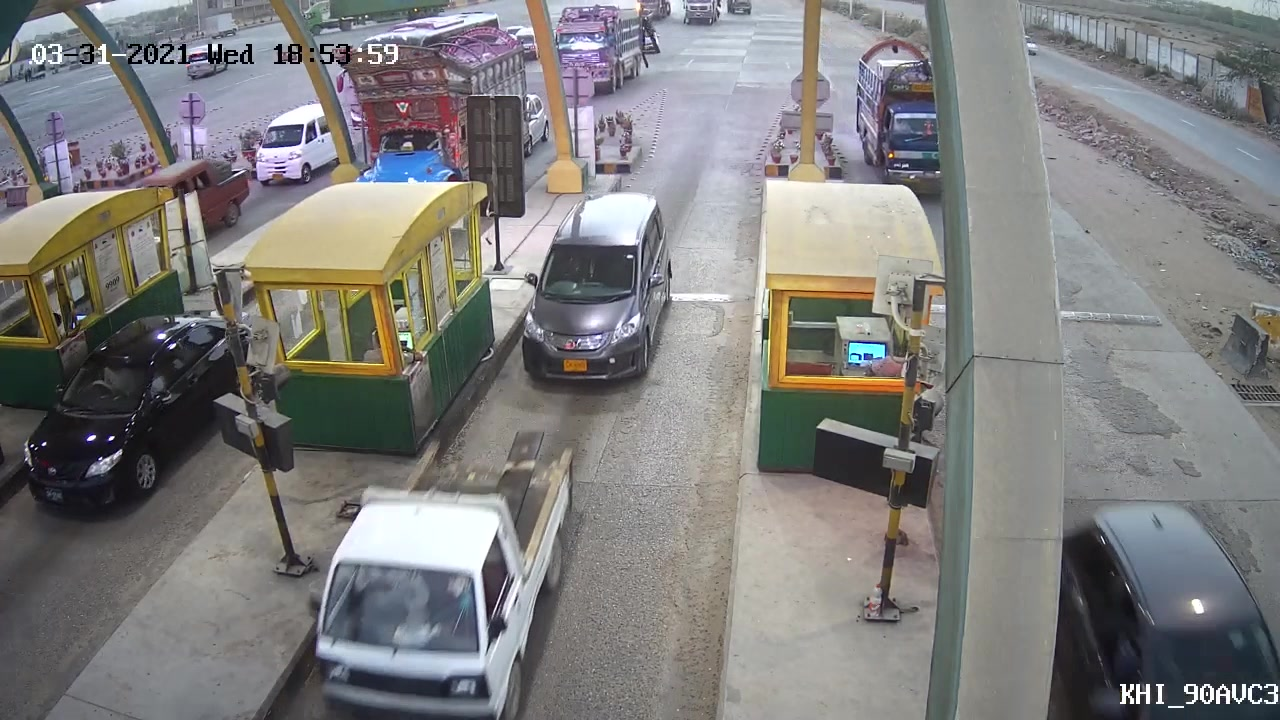F1: (518, 187, 676, 389)
